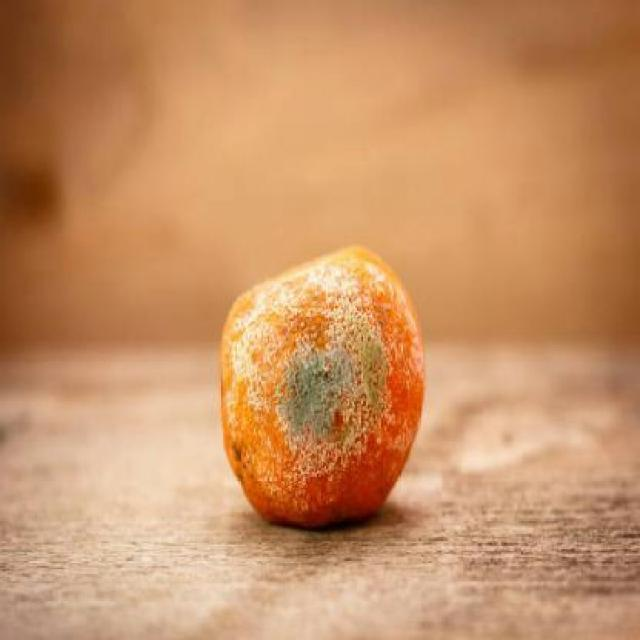Jeruk Sudah Matang: (218, 243, 424, 542)
